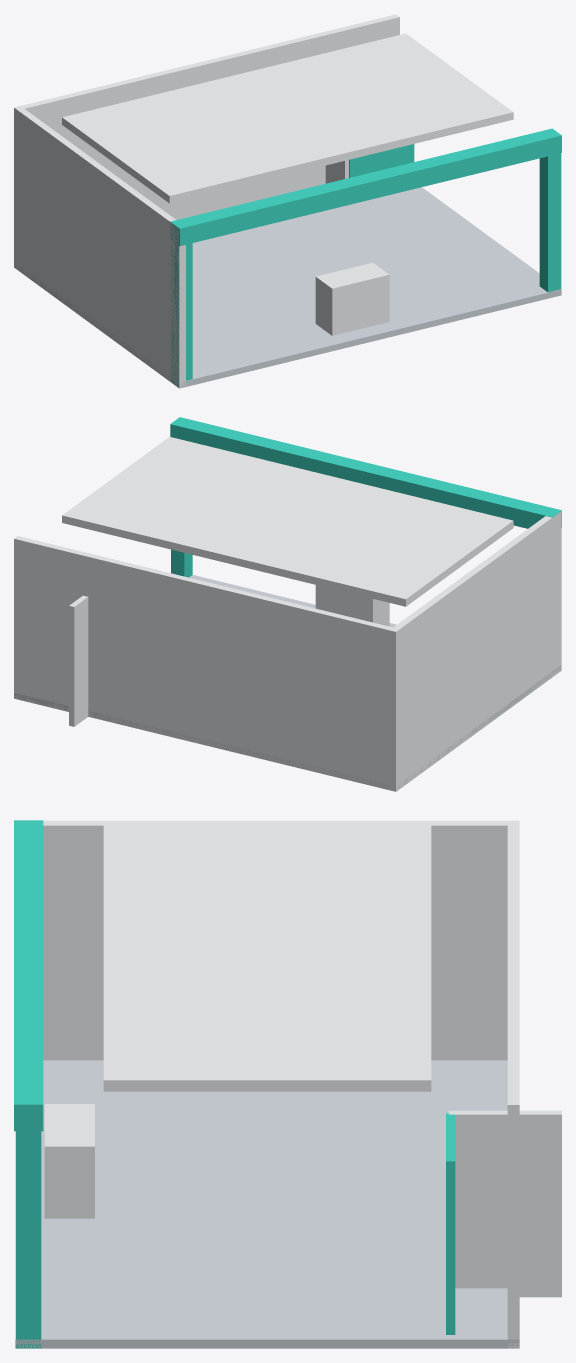
3 renders of one model, top to bottom at view 1: azimuth 30°, elevation 25°; view 2: azimuth 150°, elevation 25°; view 3: azimuth 270°, elevation 25°, orthographic. The views are drawn at different scales.
Visible parts, largest first — view 1: Exhibition Booth Concept; view 2: Exhibition Booth Concept; view 3: Exhibition Booth Concept.
Boxes of the visible parts, bbox=[...] form: Exhibition Booth Concept: bbox=[14, 14, 561, 388]; Exhibition Booth Concept: bbox=[14, 417, 561, 791]; Exhibition Booth Concept: bbox=[14, 820, 561, 1348].
Size of the model in its own units: 8 by 3.34 by 6.52.
